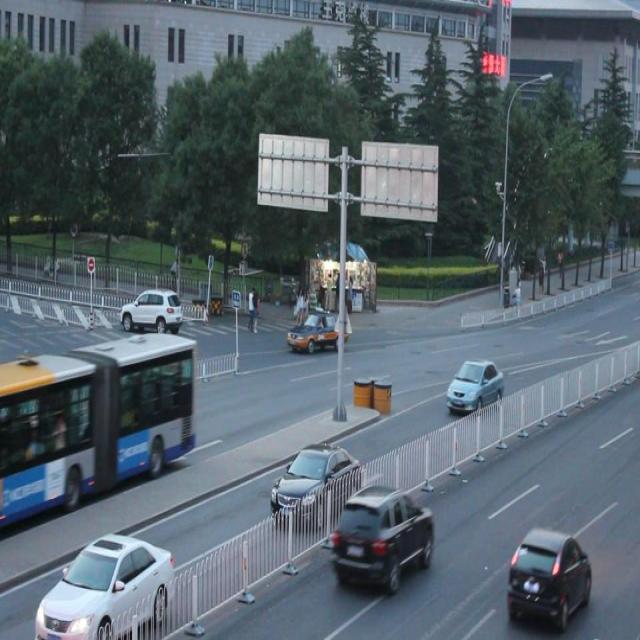car: (35, 532, 175, 640), (333, 487, 434, 587), (506, 526, 593, 628), (271, 442, 362, 531), (444, 356, 504, 416), (124, 288, 180, 334), (288, 309, 345, 354)
van: (1, 327, 196, 538)
